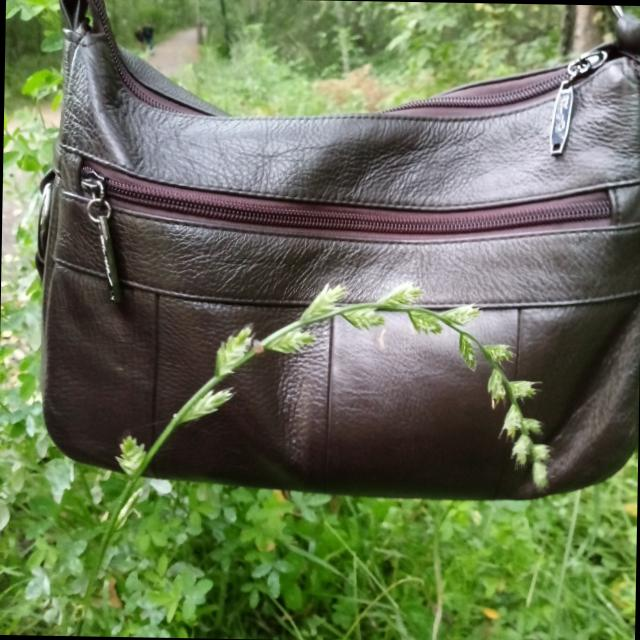Lolium: (100, 272, 558, 501)
